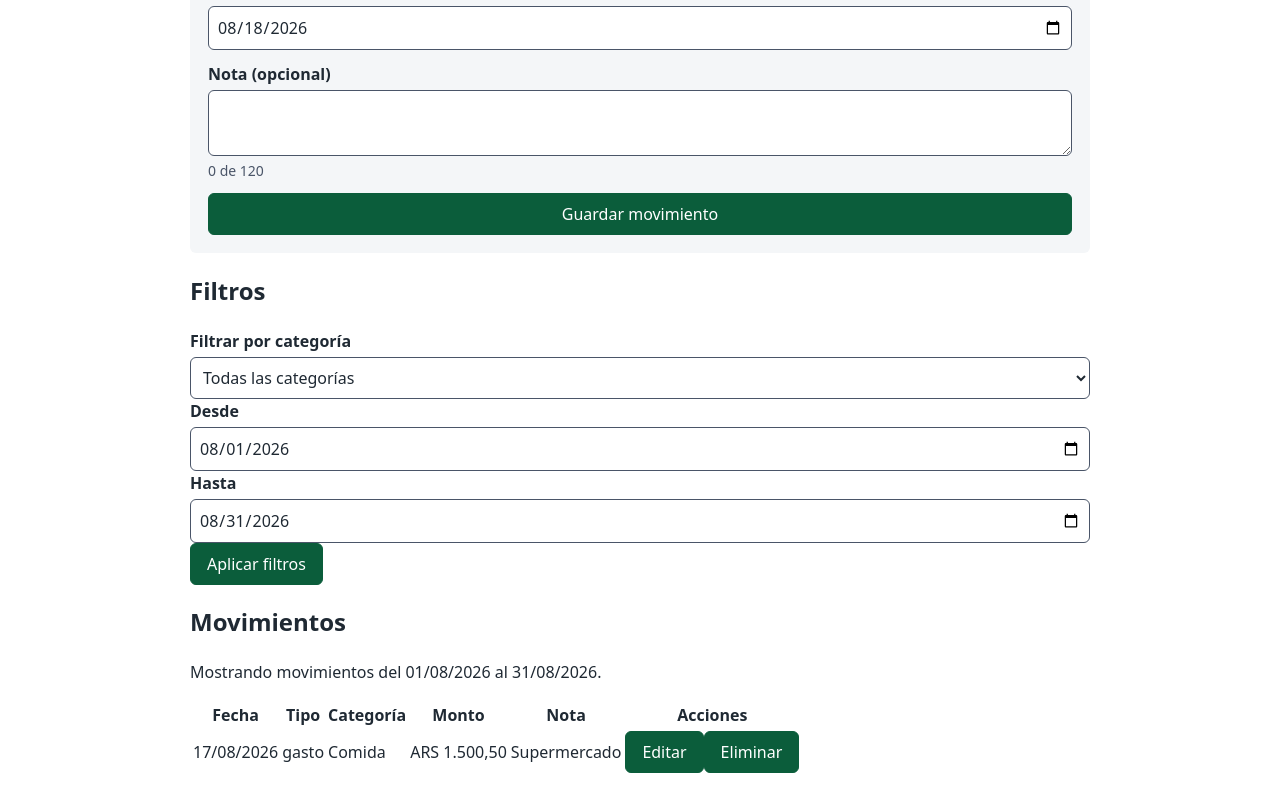
Test case: App › Eliminar_ConMovimientoYaBorrado_MuestraElMensajeYRefresca
(page scrolled)
expect the text "ARS 1.500,50" is shown: met, box [409, 730, 508, 774]
Click the button with aria-label "Eliminar el movimiento del 17/08/2026 de Comida": {"x": 751, "y": 752} [704, 731, 799, 773]
(page scrolled)
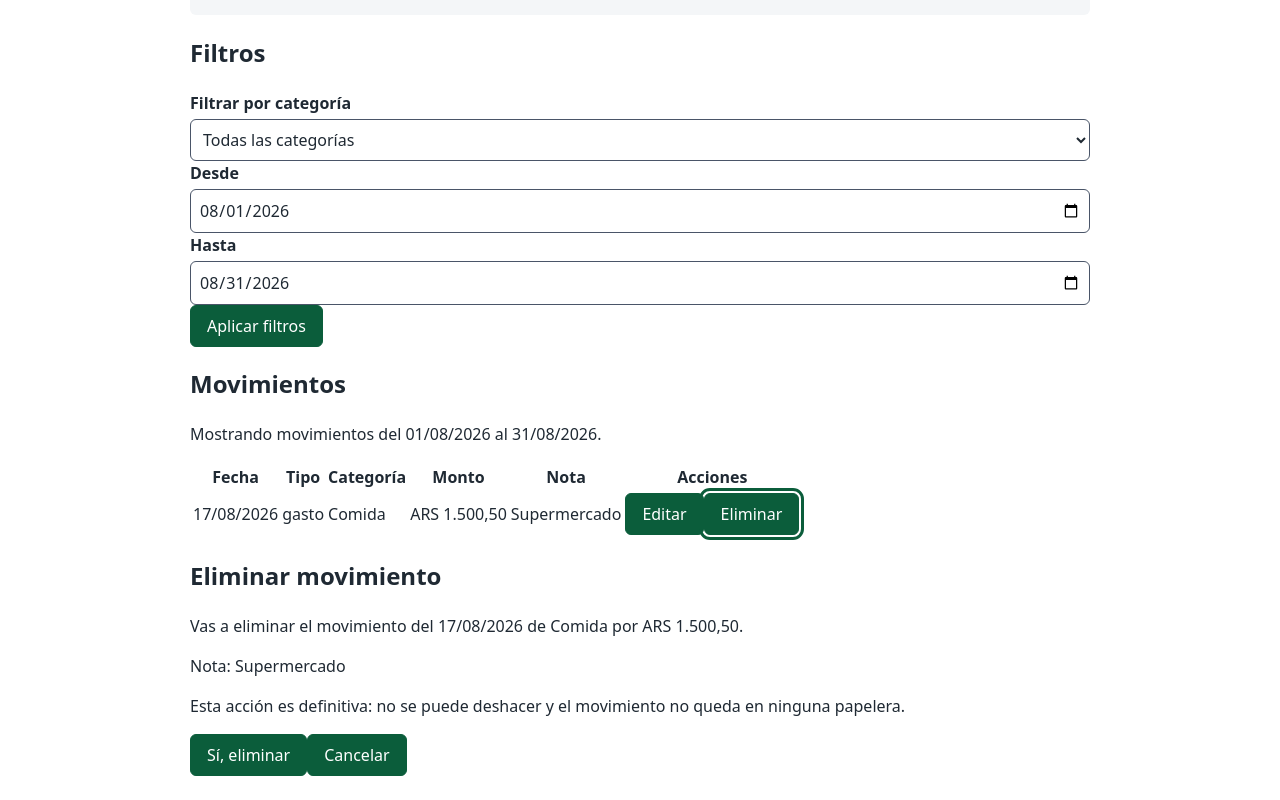
Click the button "Sí, eliminar": {"x": 249, "y": 755} [190, 734, 307, 776]
(page scrolled)
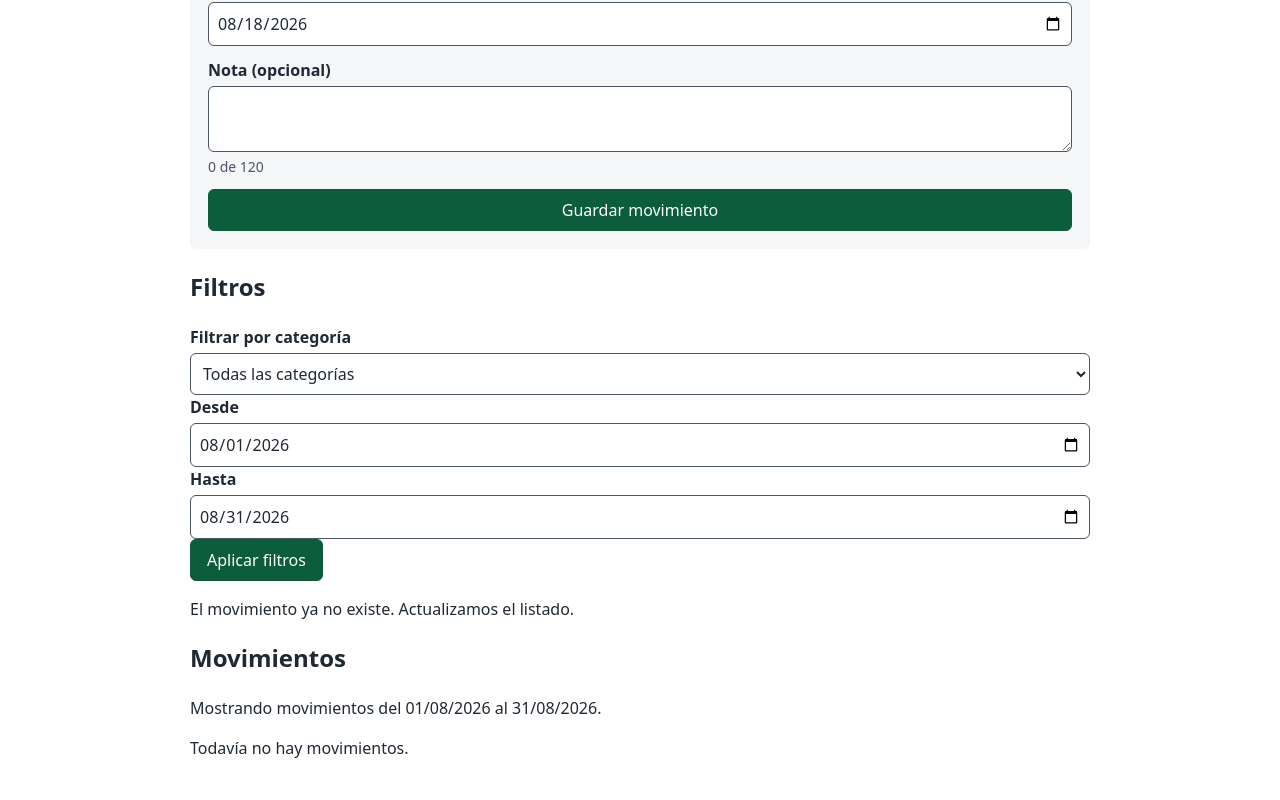
expect the text "El movimiento ya no existe. Actualizamos el listado." is shown: met, box [190, 598, 574, 620]
expect the dialog is gone: met
expect the text "ARS 1.500,50" is gone: met
